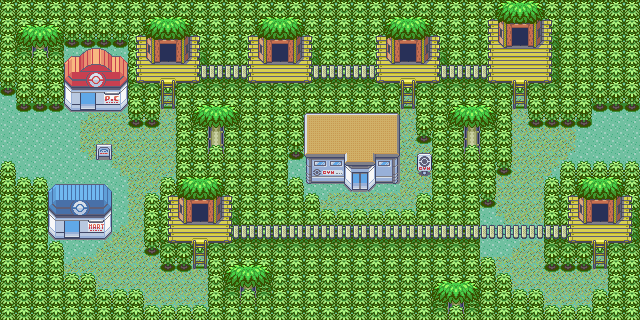gym: (303, 112, 403, 193)
normal_house: (382, 15, 432, 67), (575, 174, 625, 226), (256, 14, 305, 67), (176, 176, 226, 227), (144, 15, 192, 68), (497, 1, 546, 51)
pokemart: (46, 182, 113, 241)
pokemon_center: (62, 47, 131, 115)
